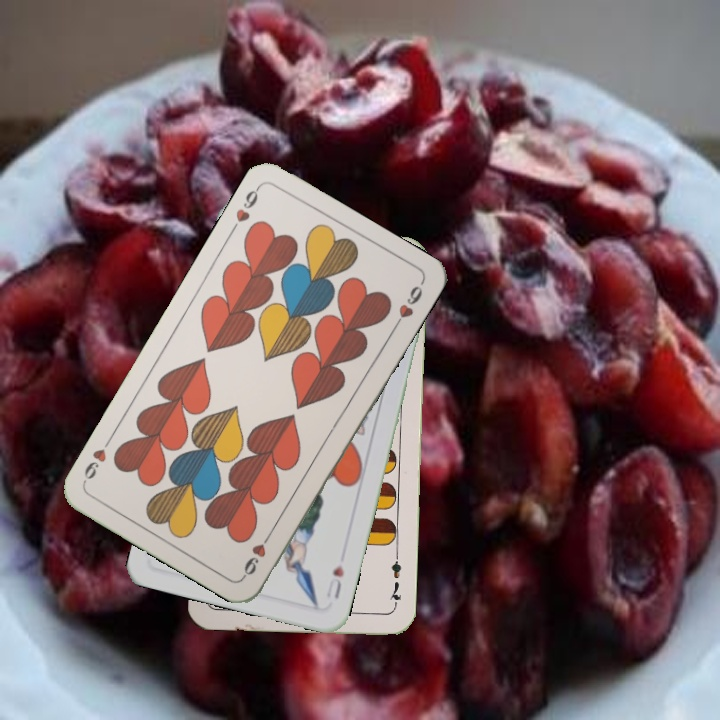E7: (385, 550, 404, 610)
H9: (226, 182, 263, 235), (239, 527, 275, 580)
HU: (322, 561, 347, 602)
